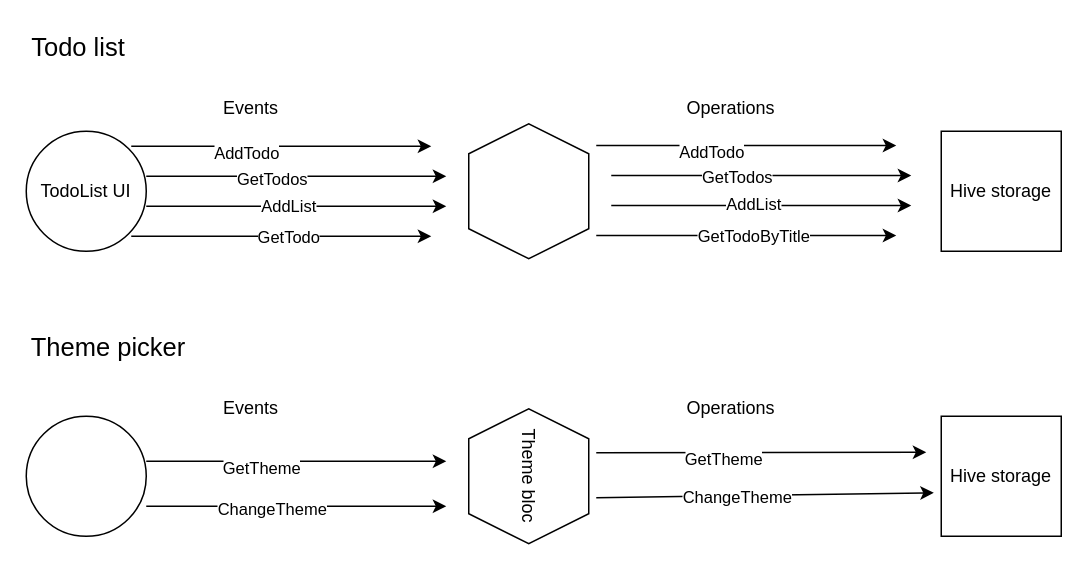
The diagram is 1088 pixels wide and 570 high, and some of its shapes have lost their labels. The centre of each missing label's shape, as x and y in pixels:
"Material App" goes at (x=85, y=475).
"Todo bloc" goes at (x=528, y=190).
